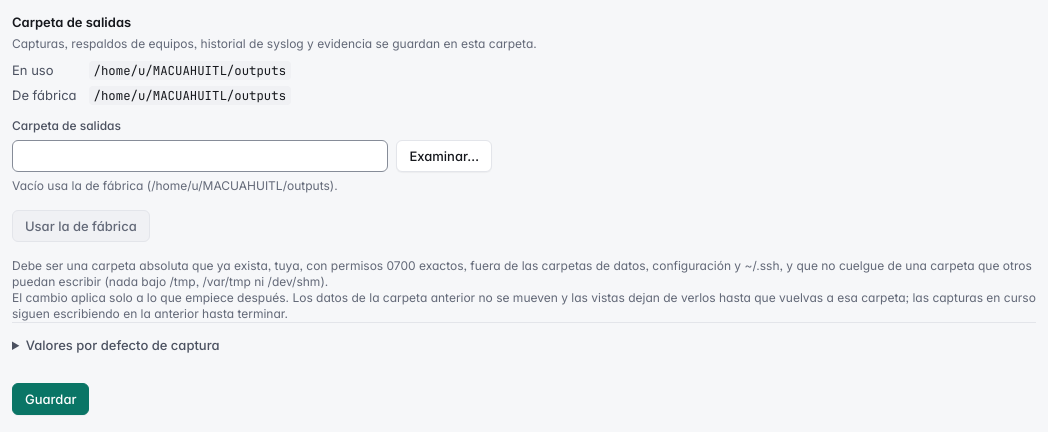
Test case: «Examinar…» elige una carpeta con el diálogo nativo
What coordinates should you click on to do the following:
click the button "Examinar…"
I would click on:
 (444, 156)
Its box is [396,140,492,172].
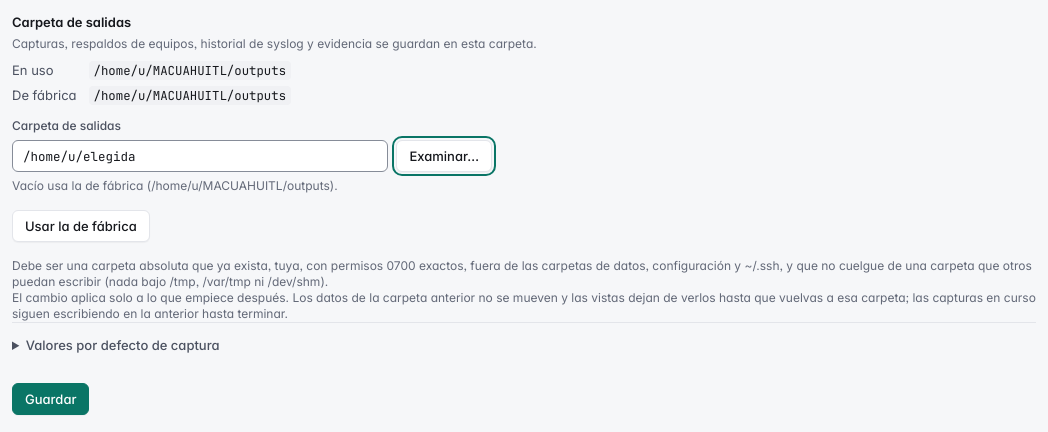
Now the field labelled "Carpeta de salidas" holds "/home/u/elegida", box [12,140,388,172]
